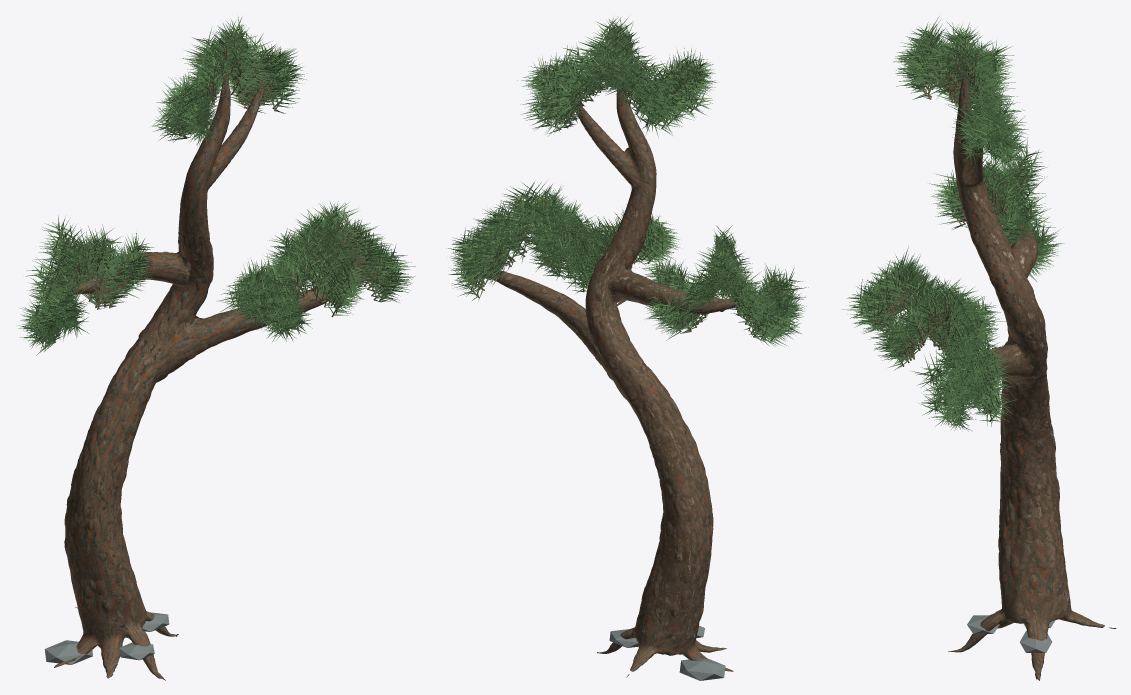
Rendered from pine-036.glb.
3 views of the same model, side by side, from view 1: azimuth 30°, elevation 25°; view 2: azimuth 150°, elevation 25°; view 3: azimuth 270°, elevation 25° (orthographic). The views are drawn at different scales.
Visible parts, largest first — view 1: H36 fused trunk roots and principal branches, H36 MainCrown directional needle shoots, H36 broad torn bark physical flakes, H36 TopCrown directional needle shoots, H36 RearCrown directional needle shoots, H36 MainCrown fine woody sprays, H36 RearCrown fine woody sprays, H36 TopCrown fine woody sprays, H36 embedded slope stone 00; view 2: H36 fused trunk roots and principal branches, H36 MainCrown directional needle shoots, H36 TopCrown directional needle shoots, H36 RearCrown directional needle shoots, H36 broad torn bark physical flakes, H36 TopCrown fine woody sprays, H36 MainCrown fine woody sprays, H36 RearCrown fine woody sprays, H36 embedded slope stone 00; view 3: H36 fused trunk roots and principal branches, H36 MainCrown directional needle shoots, H36 TopCrown directional needle shoots, H36 broad torn bark physical flakes, H36 RearCrown directional needle shoots, H36 MainCrown fine woody sprays, H36 TopCrown fine woody sprays, H36 RearCrown fine woody sprays, H36 embedded slope stone 01.
Part boxes in pixels (box(x1,y1,x2,y2)): H36 fused trunk roots and principal branches: box(53, 70, 360, 680); H36 MainCrown directional needle shoots: box(216, 201, 415, 341); H36 broad torn bark physical flakes: box(64, 228, 224, 614); H36 TopCrown directional needle shoots: box(152, 16, 306, 146); H36 RearCrown directional needle shoots: box(16, 215, 156, 355); H36 MainCrown fine woody sprays: box(232, 212, 395, 333); H36 RearCrown fine woody sprays: box(34, 229, 141, 344); H36 TopCrown fine woody sprays: box(165, 29, 289, 138); H36 embedded slope stone 00: box(44, 640, 92, 664); H36 fused trunk roots and principal branches: box(480, 87, 754, 677); H36 MainCrown directional needle shoots: box(446, 180, 679, 301); H36 TopCrown directional needle shoots: box(517, 16, 716, 137); H36 RearCrown directional needle shoots: box(639, 225, 808, 346); H36 broad torn bark physical flakes: box(587, 232, 725, 621); H36 TopCrown fine woody sprays: box(536, 27, 703, 129); H36 MainCrown fine woody sprays: box(461, 190, 664, 297); H36 RearCrown fine woody sprays: box(655, 236, 791, 341); H36 embedded slope stone 00: box(679, 658, 725, 680); H36 fused trunk roots and principal branches: box(948, 69, 1116, 680); H36 MainCrown directional needle shoots: box(841, 246, 1017, 431); H36 TopCrown directional needle shoots: box(893, 16, 1031, 177); H36 broad torn bark physical flakes: box(970, 216, 1063, 589); H36 RearCrown directional needle shoots: box(929, 140, 1064, 281); H36 MainCrown fine woody sprays: box(858, 265, 1000, 421); H36 TopCrown fine woody sprays: box(910, 31, 1012, 163); H36 RearCrown fine woody sprays: box(948, 153, 1044, 255); H36 embedded slope stone 01: box(1020, 631, 1052, 652).
Bounding box in the file's own units: 5.38 × 8.42 × 3.18.
4 materials, 1 textured.
